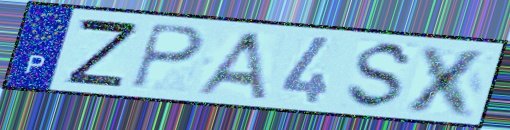4: (277, 33, 331, 107)
A: (190, 29, 271, 102)
P: (129, 21, 207, 91)
S: (342, 40, 418, 112)
X: (400, 43, 495, 120)
Z: (63, 16, 142, 90)
